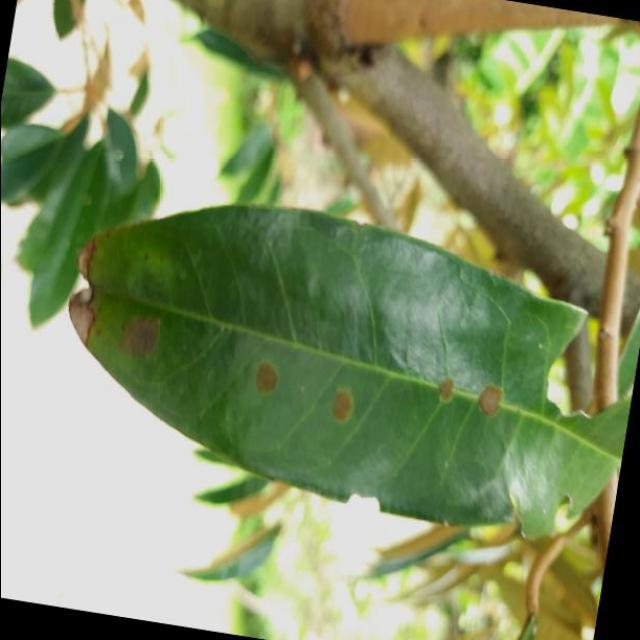Algal Leaf Spot: (31, 162, 640, 560)
